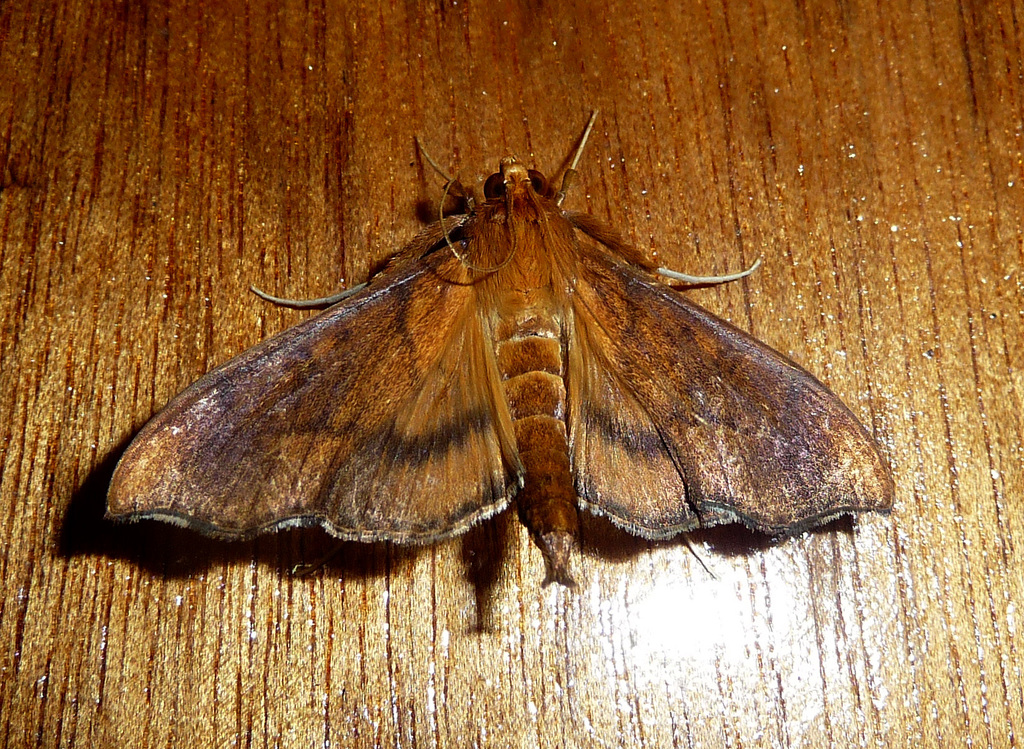Butterfly: (51, 116, 924, 619)
